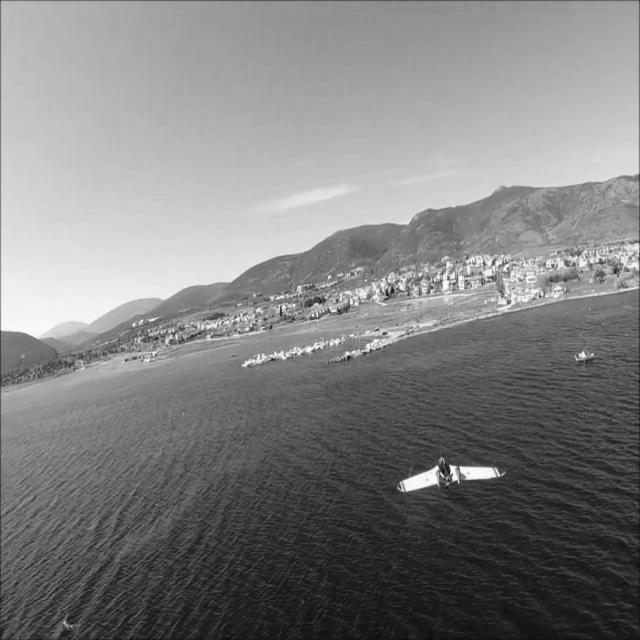iha: (426, 472, 476, 474)
